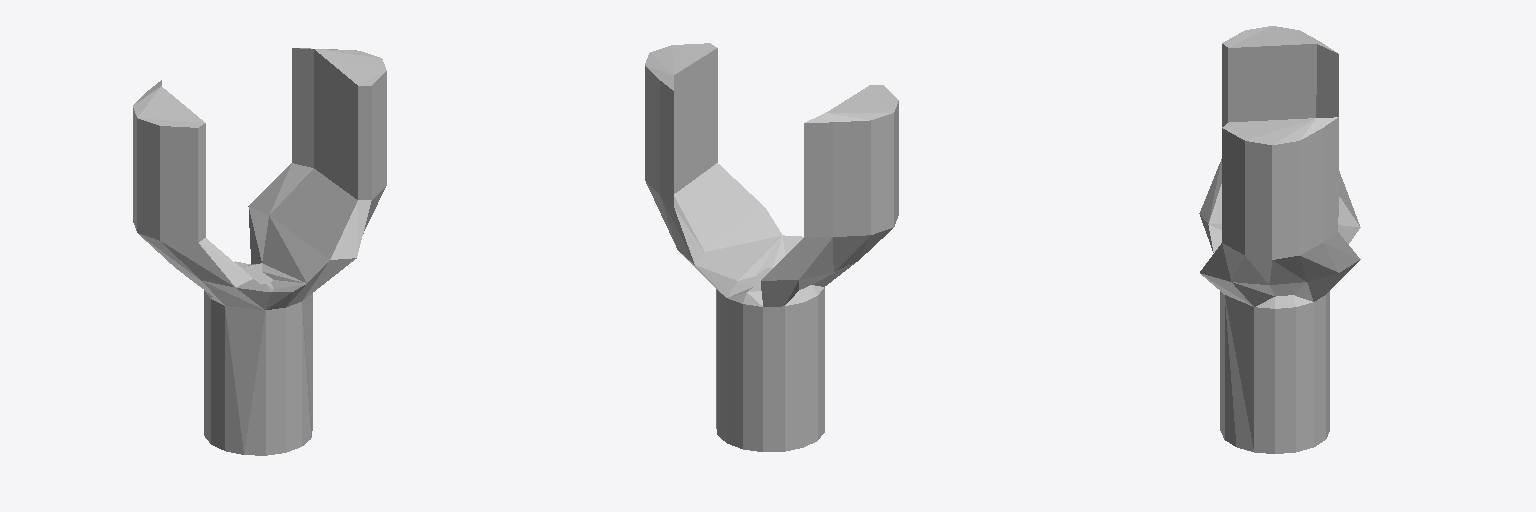
The model's file is basetop.obj.
3 renders of one model, left to right at view 1: azimuth 30°, elevation 25°; view 2: azimuth 150°, elevation 25°; view 3: azimuth 270°, elevation 25°, orthographic.
Parts seen in each view (by area): view 1: Cylinder.007_Cylinder.016; view 2: Cylinder.007_Cylinder.016; view 3: Cylinder.007_Cylinder.016.
Boxes of the visible parts, x1=… form: Cylinder.007_Cylinder.016: x1=133, y1=48, x2=386, y2=455; Cylinder.007_Cylinder.016: x1=645, y1=43, x2=898, y2=451; Cylinder.007_Cylinder.016: x1=1199, y1=26, x2=1360, y2=453.
Bounding box in the file's own units: 5.81 × 7.93 × 3.31.